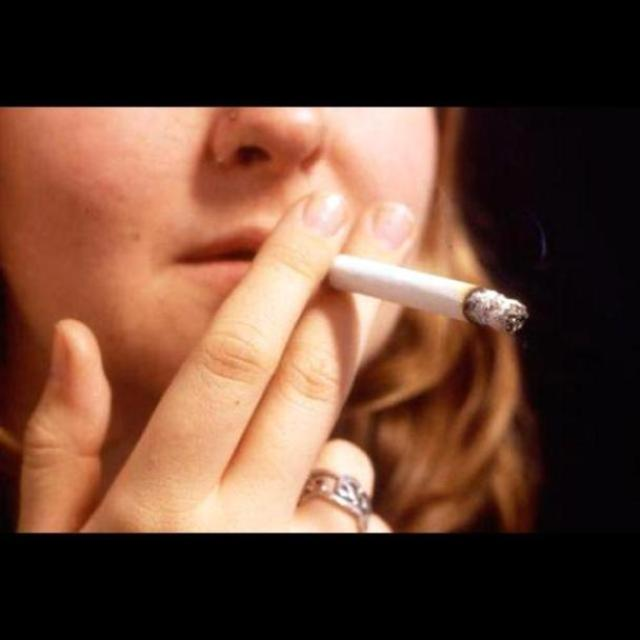rokok: (318, 247, 532, 346)
